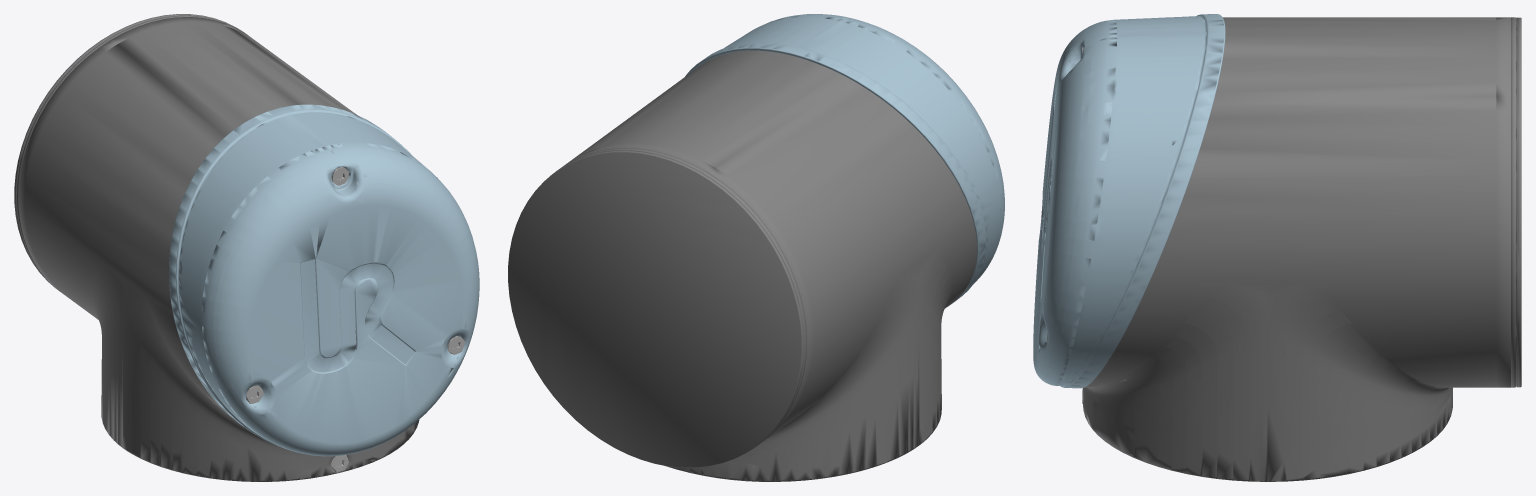
The model's file is wrist2.dae.
3 views of the same model, side by side, from view 1: azimuth 30°, elevation 25°; view 2: azimuth 150°, elevation 25°; view 3: azimuth 270°, elevation 25° (orthographic). The views are drawn at different scales.
Parts seen in each view (by area): view 1: node-shape1-name, node-shape0-name, node-shape2-name; view 2: node-shape0-name, node-shape1-name; view 3: node-shape0-name, node-shape1-name.
Boxes of the visible parts, left/top/right/bottom form: node-shape1-name: left=169, top=104, right=479, bottom=456; node-shape0-name: left=14, top=14, right=419, bottom=481; node-shape2-name: left=246, top=167, right=464, bottom=472; node-shape0-name: left=508, top=50, right=977, bottom=481; node-shape1-name: left=685, top=14, right=1004, bottom=306; node-shape0-name: left=1083, top=17, right=1521, bottom=481; node-shape1-name: left=1033, top=14, right=1225, bottom=388.
Size of the model in its own units: 0.091 by 0.1188 by 0.0999.
